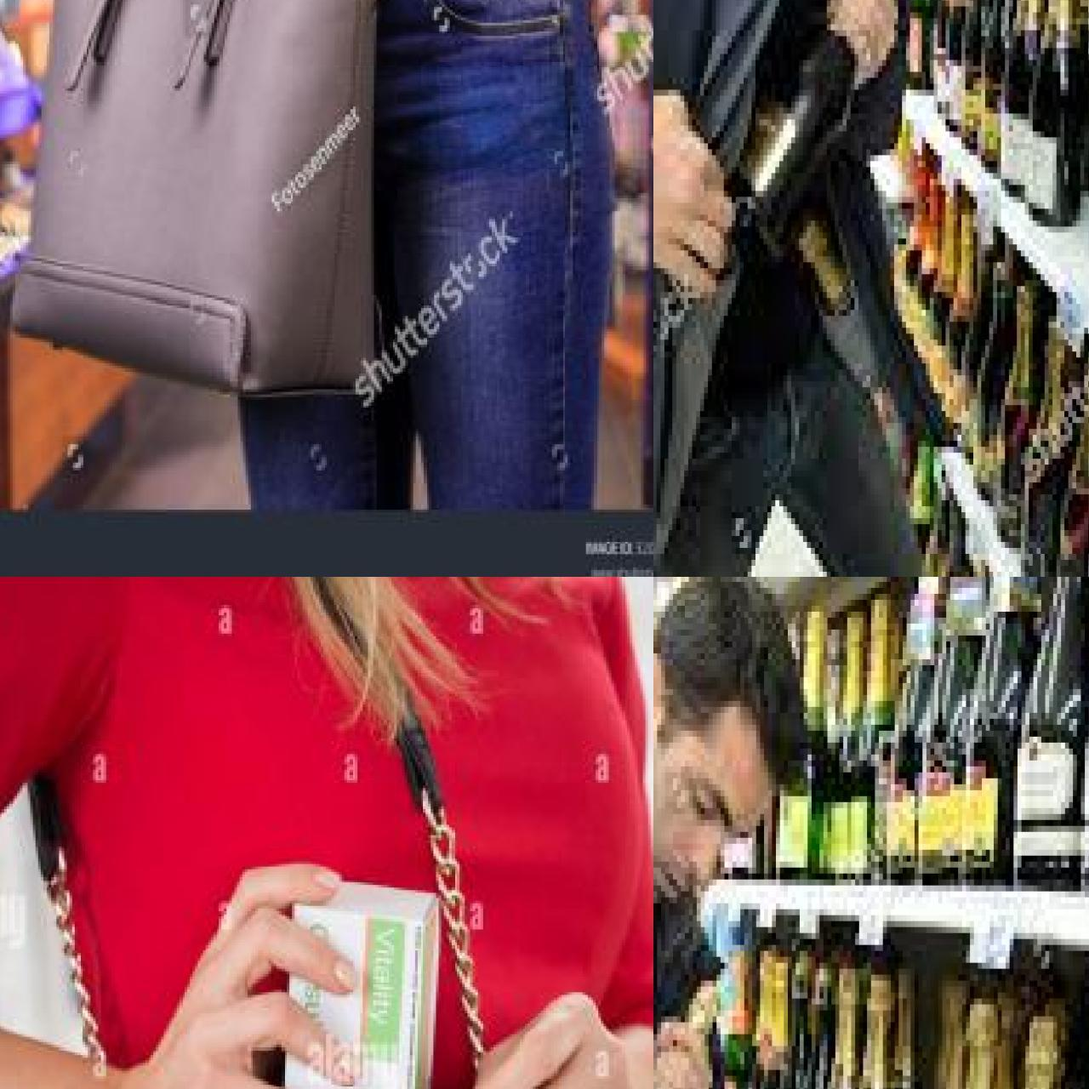shoplifting: (651, 0, 1089, 579)
